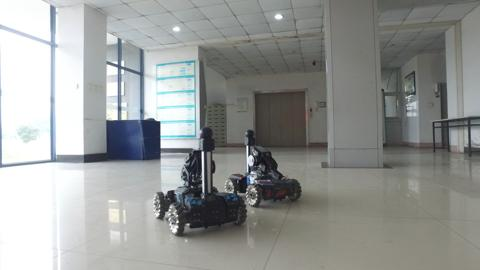chariot: (146, 127, 249, 238), (224, 128, 305, 210)
